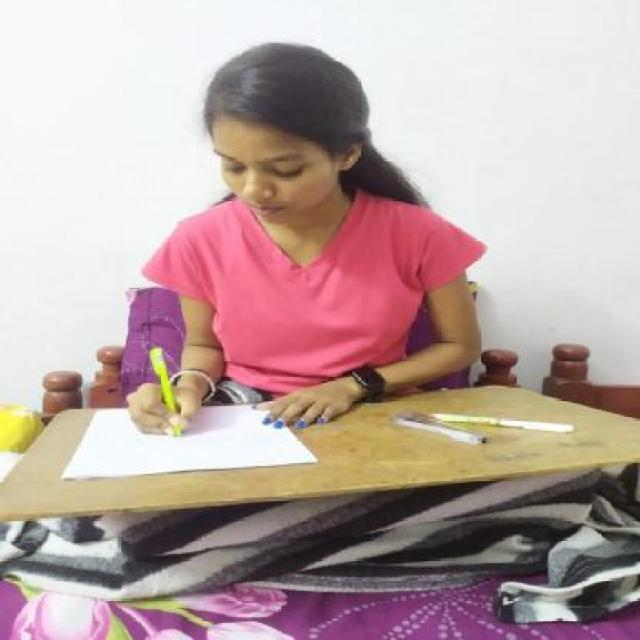good: (75, 26, 552, 474)
